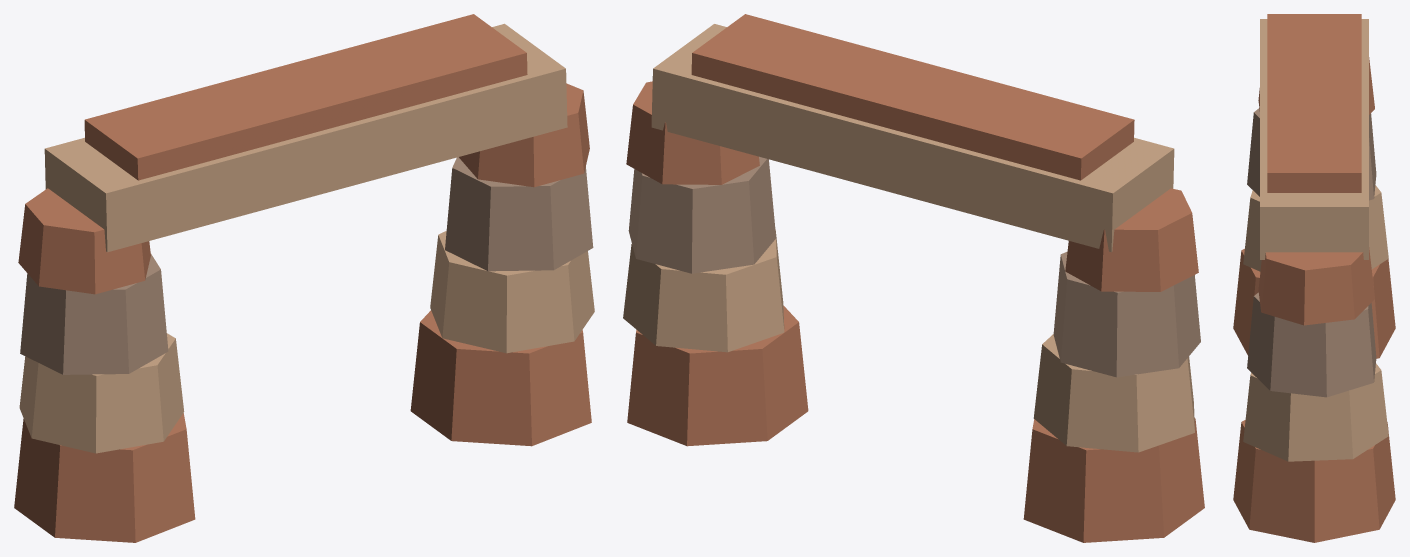
Rendered from Arch.glb.
The picture shows the model from 3 angles, left to right: view 1: azimuth 30°, elevation 25°; view 2: azimuth 150°, elevation 25°; view 3: azimuth 270°, elevation 25°; orthographic projection. The views are drawn at different scales.
Parts seen in each view (by area): view 1: Arch; view 2: Arch; view 3: Arch.
Part boxes in pixels (<box>): Arch: <box>14,14,594,542</box>; Arch: <box>623,14,1204,542</box>; Arch: <box>1233,14,1395,542</box>.
Bounding box in the file's own units: 15.76 × 10.14 × 4.48.
